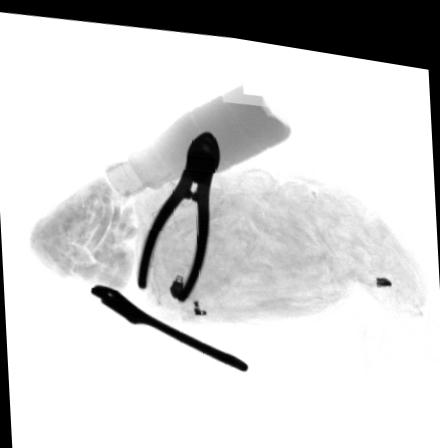Pliers: (134, 119, 221, 300)
Wrench: (89, 280, 248, 362)
